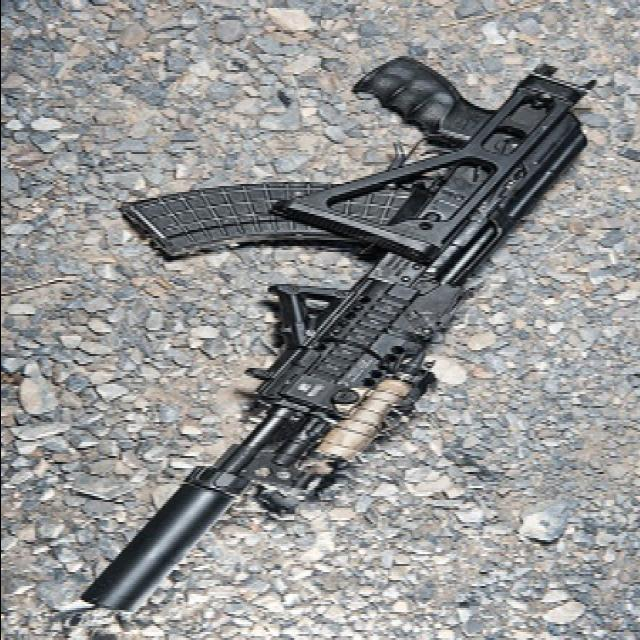rifle: (68, 53, 608, 623)
